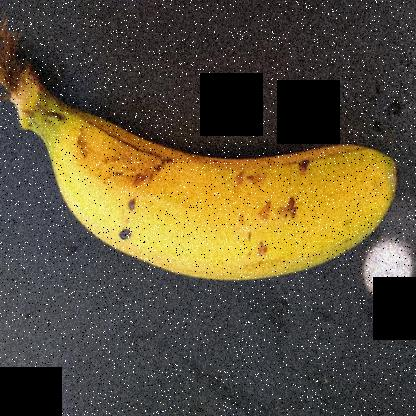ripe: (40, 94, 403, 306)
